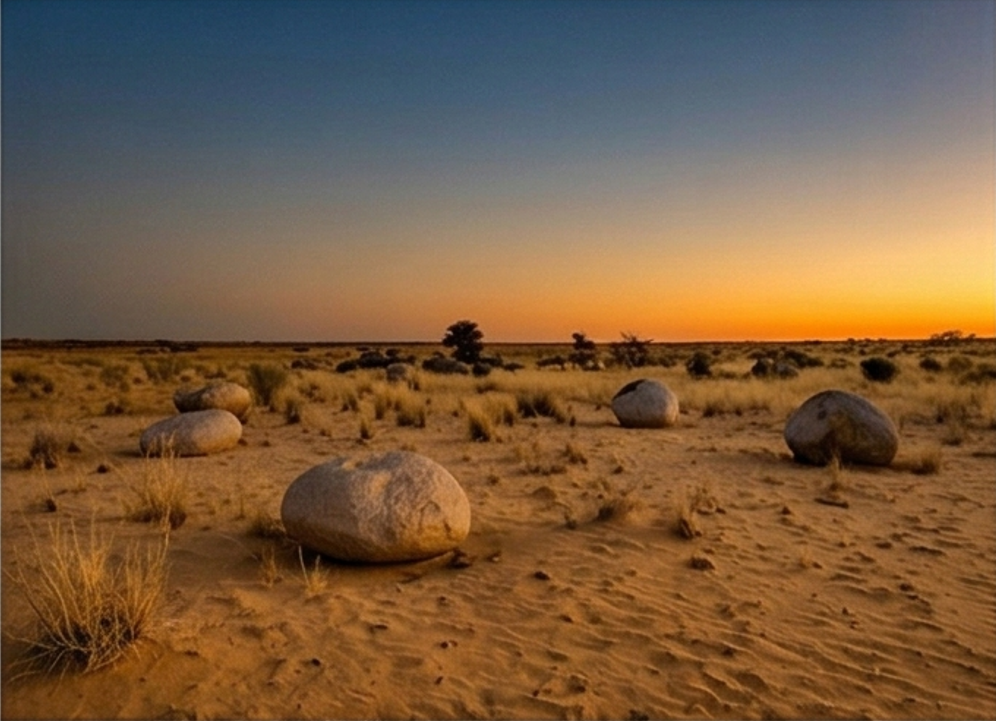rocks: (281, 451, 470, 562), (785, 390, 897, 464), (140, 382, 251, 455), (612, 380, 676, 428)
